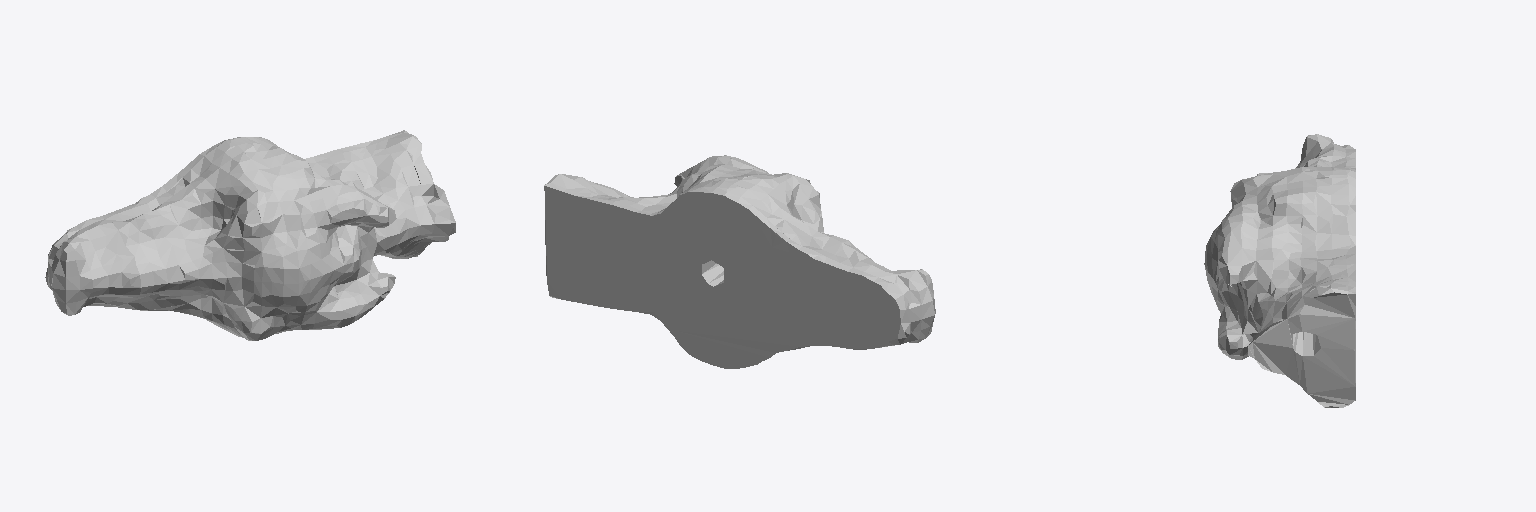
File: 80757-dragon_head_Clustering_90pct.obj
3 renders of one model, left to right at view 1: azimuth 30°, elevation 25°; view 2: azimuth 150°, elevation 25°; view 3: azimuth 270°, elevation 25°, orthographic.
Bounding box in the file's own units: 0.9997 × 0.4586 × 0.3509.